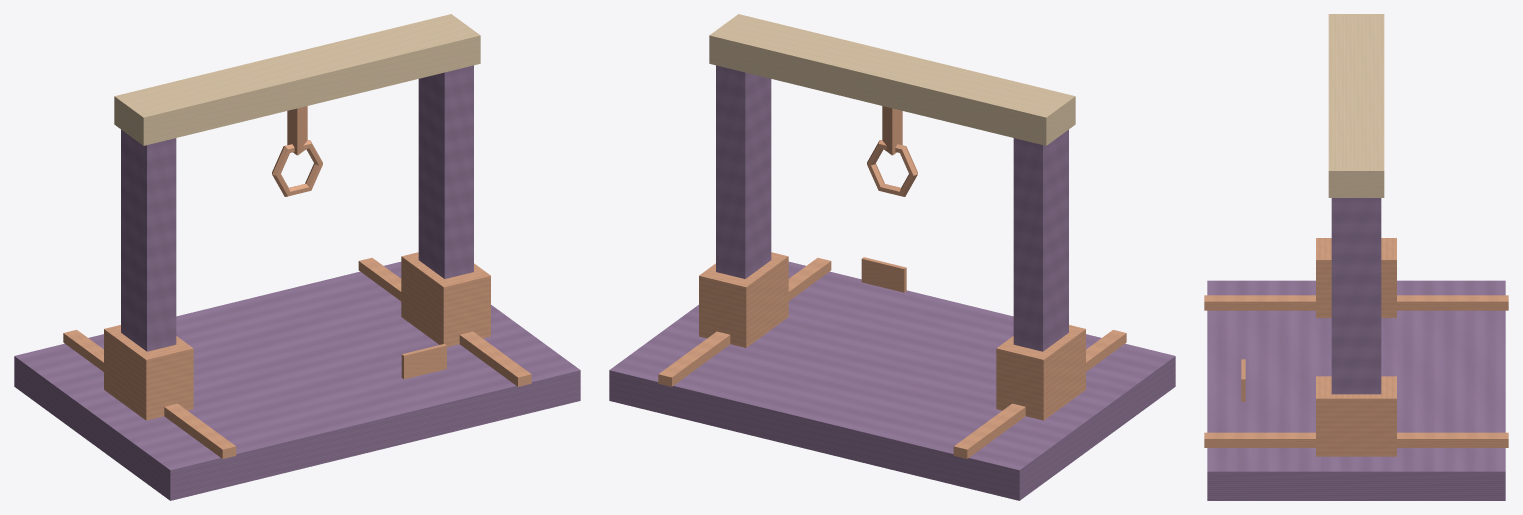
Rendered from atlas100-s087-a02.lod2.glb.
3 renders of one model, left to right at view 1: azimuth 30°, elevation 25°; view 2: azimuth 150°, elevation 25°; view 3: azimuth 270°, elevation 25°, orthographic. The views are drawn at different scales.
Visible parts, largest first — view 1: atlas100-s087-a02:part-000, atlas100-s087-a02:part-007, atlas100-s087-a02:part-003, atlas100-s087-a02:part-005, atlas100-s087-a02:part-004, atlas100-s087-a02:part-006, atlas100-s087-a02:part-002, atlas100-s087-a02:part-001, atlas100-s087-a02:part-010, atlas100-s087-a02:part-009, atlas100-s087-a02:part-008; view 2: atlas100-s087-a02:part-000, atlas100-s087-a02:part-007, atlas100-s087-a02:part-003, atlas100-s087-a02:part-005, atlas100-s087-a02:part-004, atlas100-s087-a02:part-006, atlas100-s087-a02:part-002, atlas100-s087-a02:part-001, atlas100-s087-a02:part-010, atlas100-s087-a02:part-009, atlas100-s087-a02:part-008; view 3: atlas100-s087-a02:part-000, atlas100-s087-a02:part-007, atlas100-s087-a02:part-005, atlas100-s087-a02:part-006, atlas100-s087-a02:part-001, atlas100-s087-a02:part-002, atlas100-s087-a02:part-004.
Boxes of the visible parts, left/top/right/bottom form: atlas100-s087-a02:part-000: left=14, top=261, right=580, bottom=500; atlas100-s087-a02:part-007: left=114, top=14, right=480, bottom=145; atlas100-s087-a02:part-003: left=121, top=129, right=176, bottom=351; atlas100-s087-a02:part-005: left=418, top=65, right=473, bottom=278; atlas100-s087-a02:part-004: left=104, top=325, right=193, bottom=420; atlas100-s087-a02:part-006: left=401, top=252, right=490, bottom=346; atlas100-s087-a02:part-002: left=358, top=257, right=531, bottom=386; atlas100-s087-a02:part-001: left=63, top=330, right=236, bottom=458; atlas100-s087-a02:part-010: left=401, top=344, right=446, bottom=379; atlas100-s087-a02:part-009: left=272, top=140, right=322, bottom=196; atlas100-s087-a02:part-008: left=287, top=106, right=307, bottom=155; atlas100-s087-a02:part-000: left=609, top=261, right=1175, bottom=500; atlas100-s087-a02:part-007: left=709, top=14, right=1075, bottom=145; atlas100-s087-a02:part-003: left=1013, top=129, right=1068, bottom=351; atlas100-s087-a02:part-005: left=716, top=65, right=771, bottom=278; atlas100-s087-a02:part-004: left=996, top=325, right=1085, bottom=420; atlas100-s087-a02:part-006: left=699, top=252, right=788, bottom=347; atlas100-s087-a02:part-002: left=658, top=257, right=831, bottom=386; atlas100-s087-a02:part-001: left=953, top=330, right=1126, bottom=458; atlas100-s087-a02:part-010: left=861, top=257, right=906, bottom=292; atlas100-s087-a02:part-009: left=867, top=140, right=917, bottom=196; atlas100-s087-a02:part-008: left=882, top=106, right=902, bottom=155; atlas100-s087-a02:part-000: left=1207, top=280, right=1505, bottom=500; atlas100-s087-a02:part-007: left=1328, top=14, right=1384, bottom=197; atlas100-s087-a02:part-005: left=1331, top=198, right=1381, bottom=394; atlas100-s087-a02:part-006: left=1316, top=376, right=1396, bottom=456; atlas100-s087-a02:part-001: left=1204, top=295, right=1508, bottom=310; atlas100-s087-a02:part-002: left=1204, top=432, right=1508, bottom=447; atlas100-s087-a02:part-004: left=1316, top=238, right=1396, bottom=317.
Bounding box in the file's own units: 3.64 × 2.78 × 2.45.
Materials: 3 (3 with a texture image).
